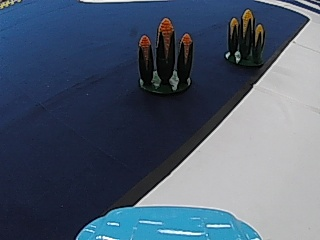corn: (134, 16, 197, 95), (223, 6, 267, 67)
